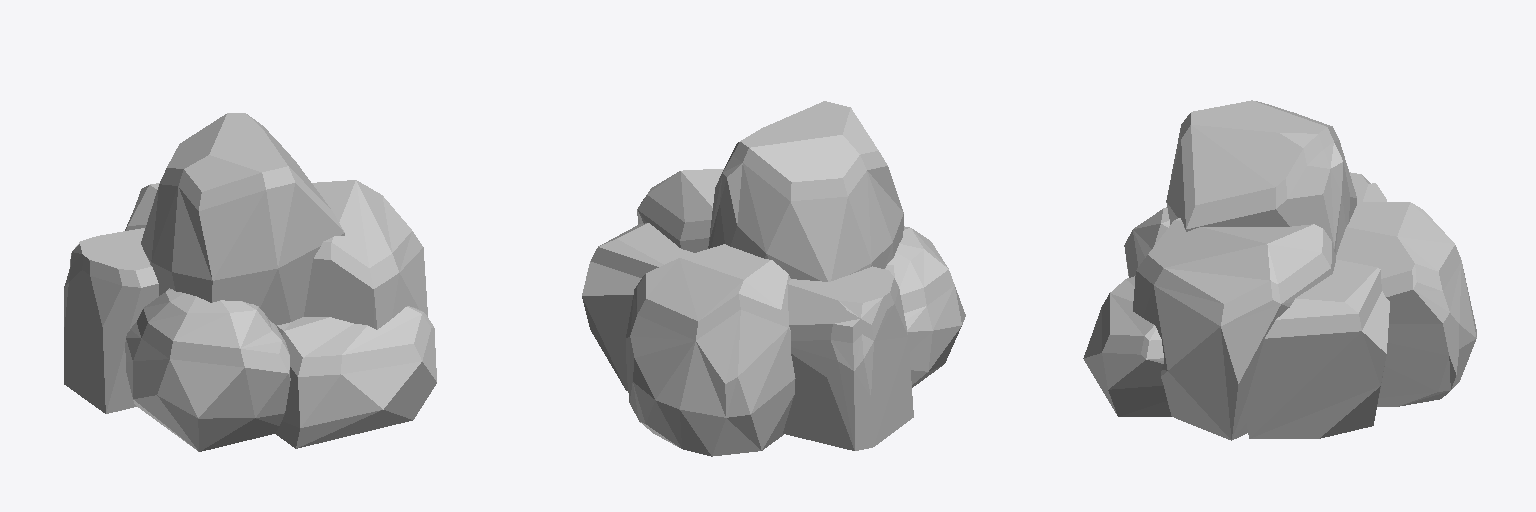
The model's file is rock.obj.
3 renders of one model, left to right at view 1: azimuth 30°, elevation 25°; view 2: azimuth 150°, elevation 25°; view 3: azimuth 270°, elevation 25°, orthographic.
Visible parts, largest first — view 1: PP_Rock_Moss_Grown_09; view 2: PP_Rock_Moss_Grown_09; view 3: PP_Rock_Moss_Grown_09.
Boxes of the visible parts, <box> form: PP_Rock_Moss_Grown_09: <box>64,113,436,451</box>; PP_Rock_Moss_Grown_09: <box>582,101,965,456</box>; PP_Rock_Moss_Grown_09: <box>1083,100,1476,440</box>.
Bounding box in the file's own units: 3.36 × 2.74 × 3.86.